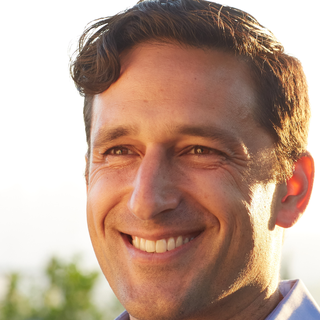eye: (173, 142, 231, 163), (99, 142, 147, 166)
